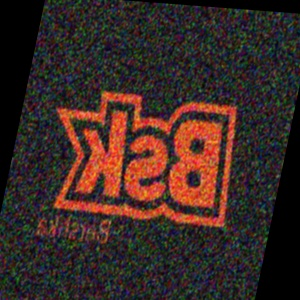bershka: (234, 47, 280, 123)
